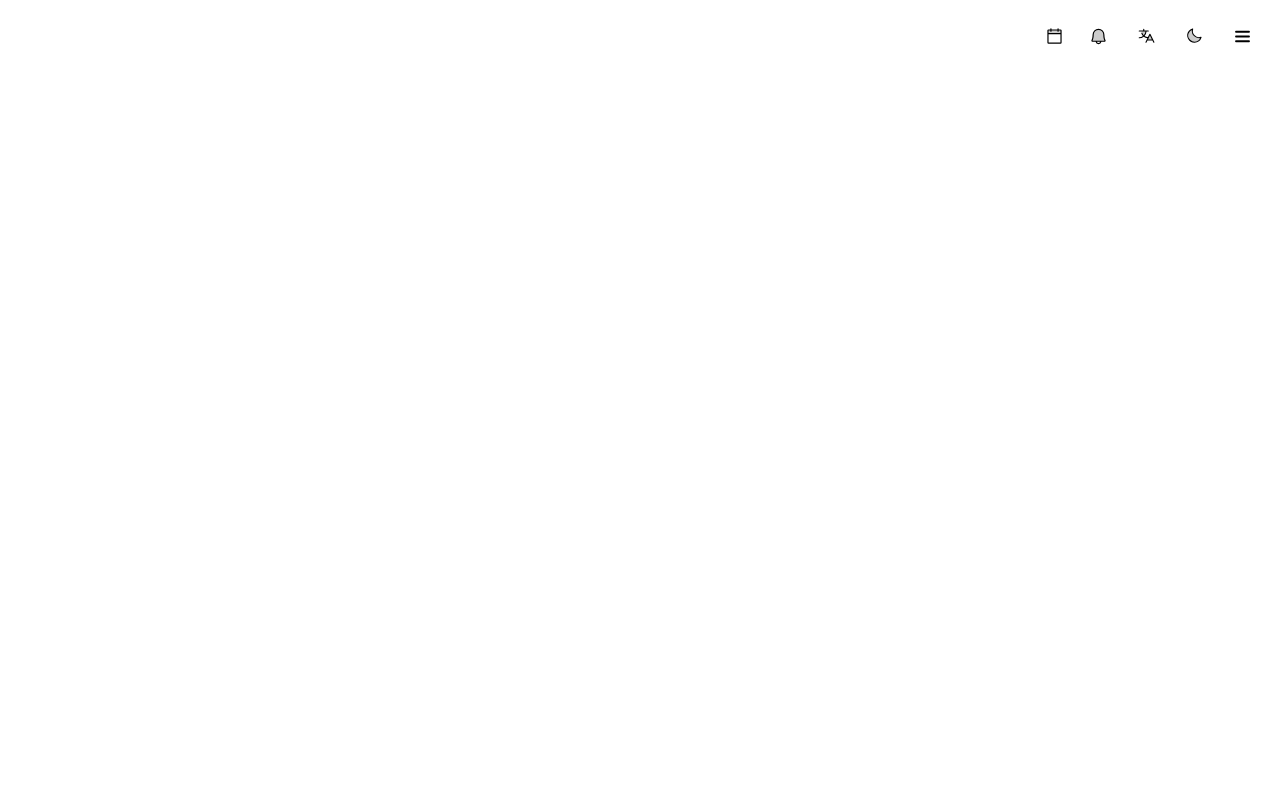
it: discards an open account-scoped read when the session or route changes
Click the button named "日历". click: click(1054, 36)
box: [1032, 14, 1076, 58]
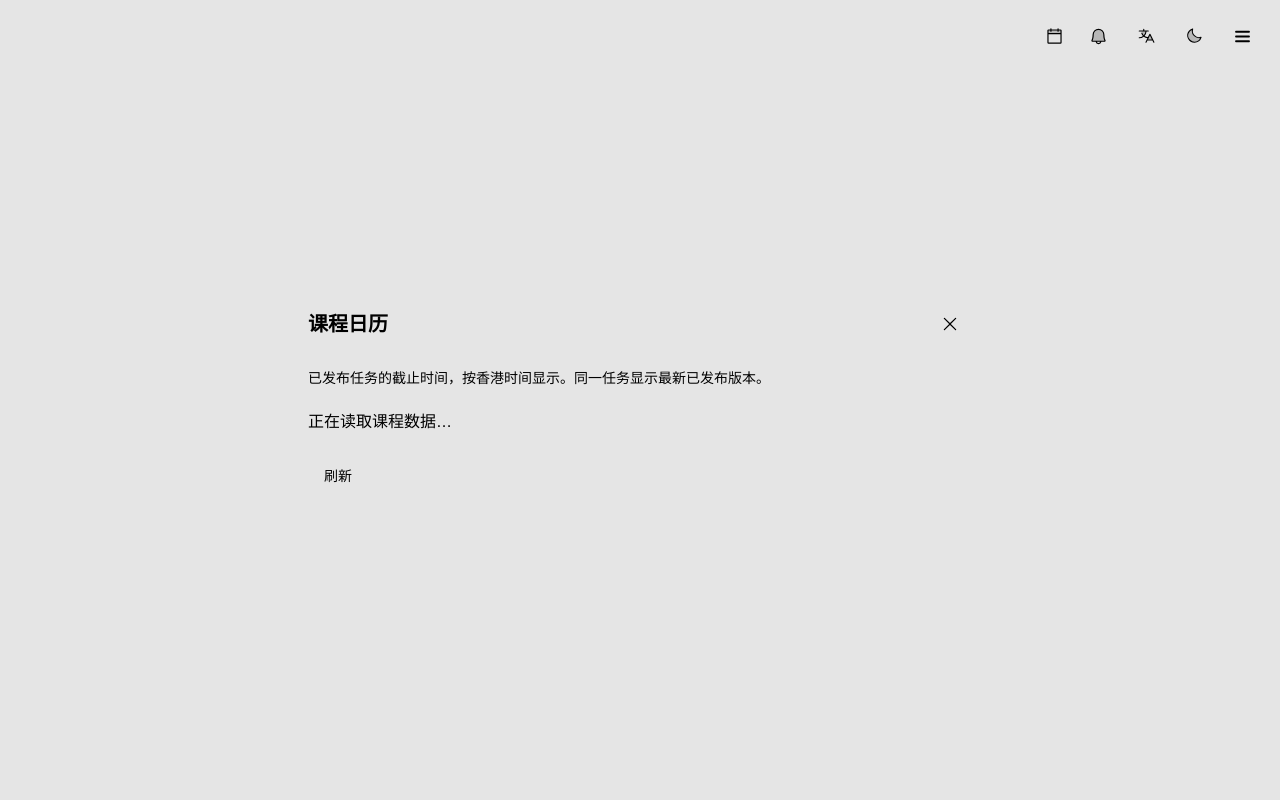
Check: the dialog is shown, box [288, 282, 992, 518]
